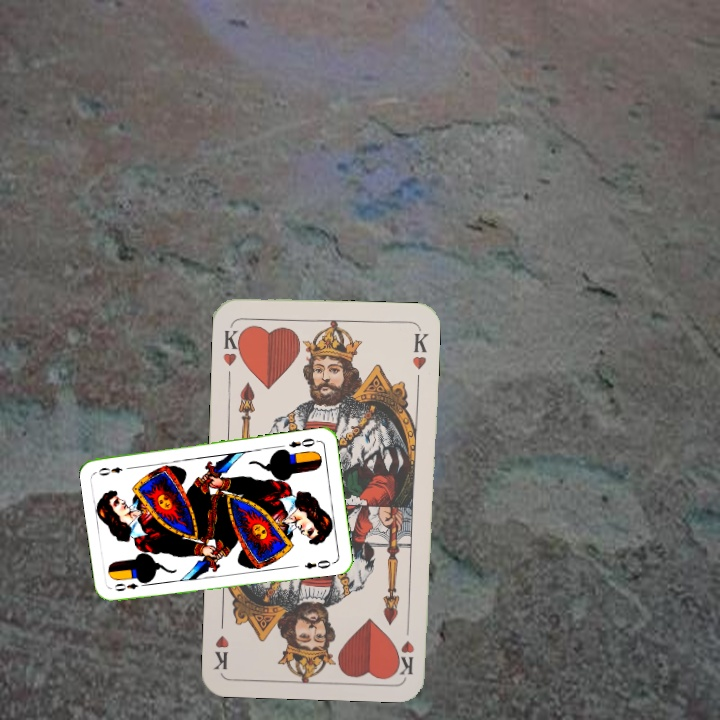EO: (110, 576, 149, 594), (285, 434, 321, 450)
HK: (394, 617, 417, 677), (219, 321, 246, 369)
